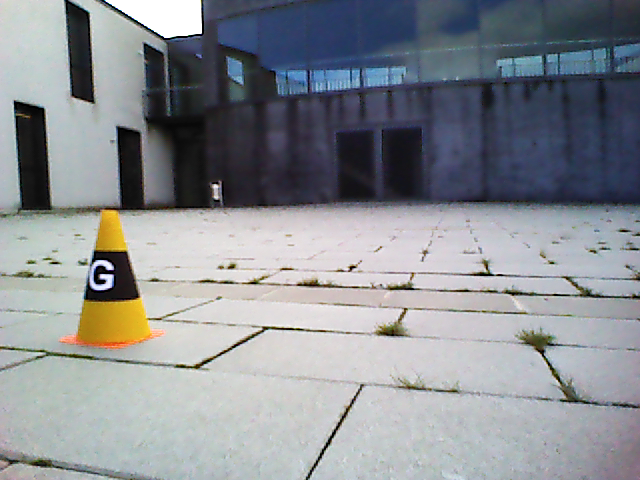yellowcone: (78, 208, 155, 343)
